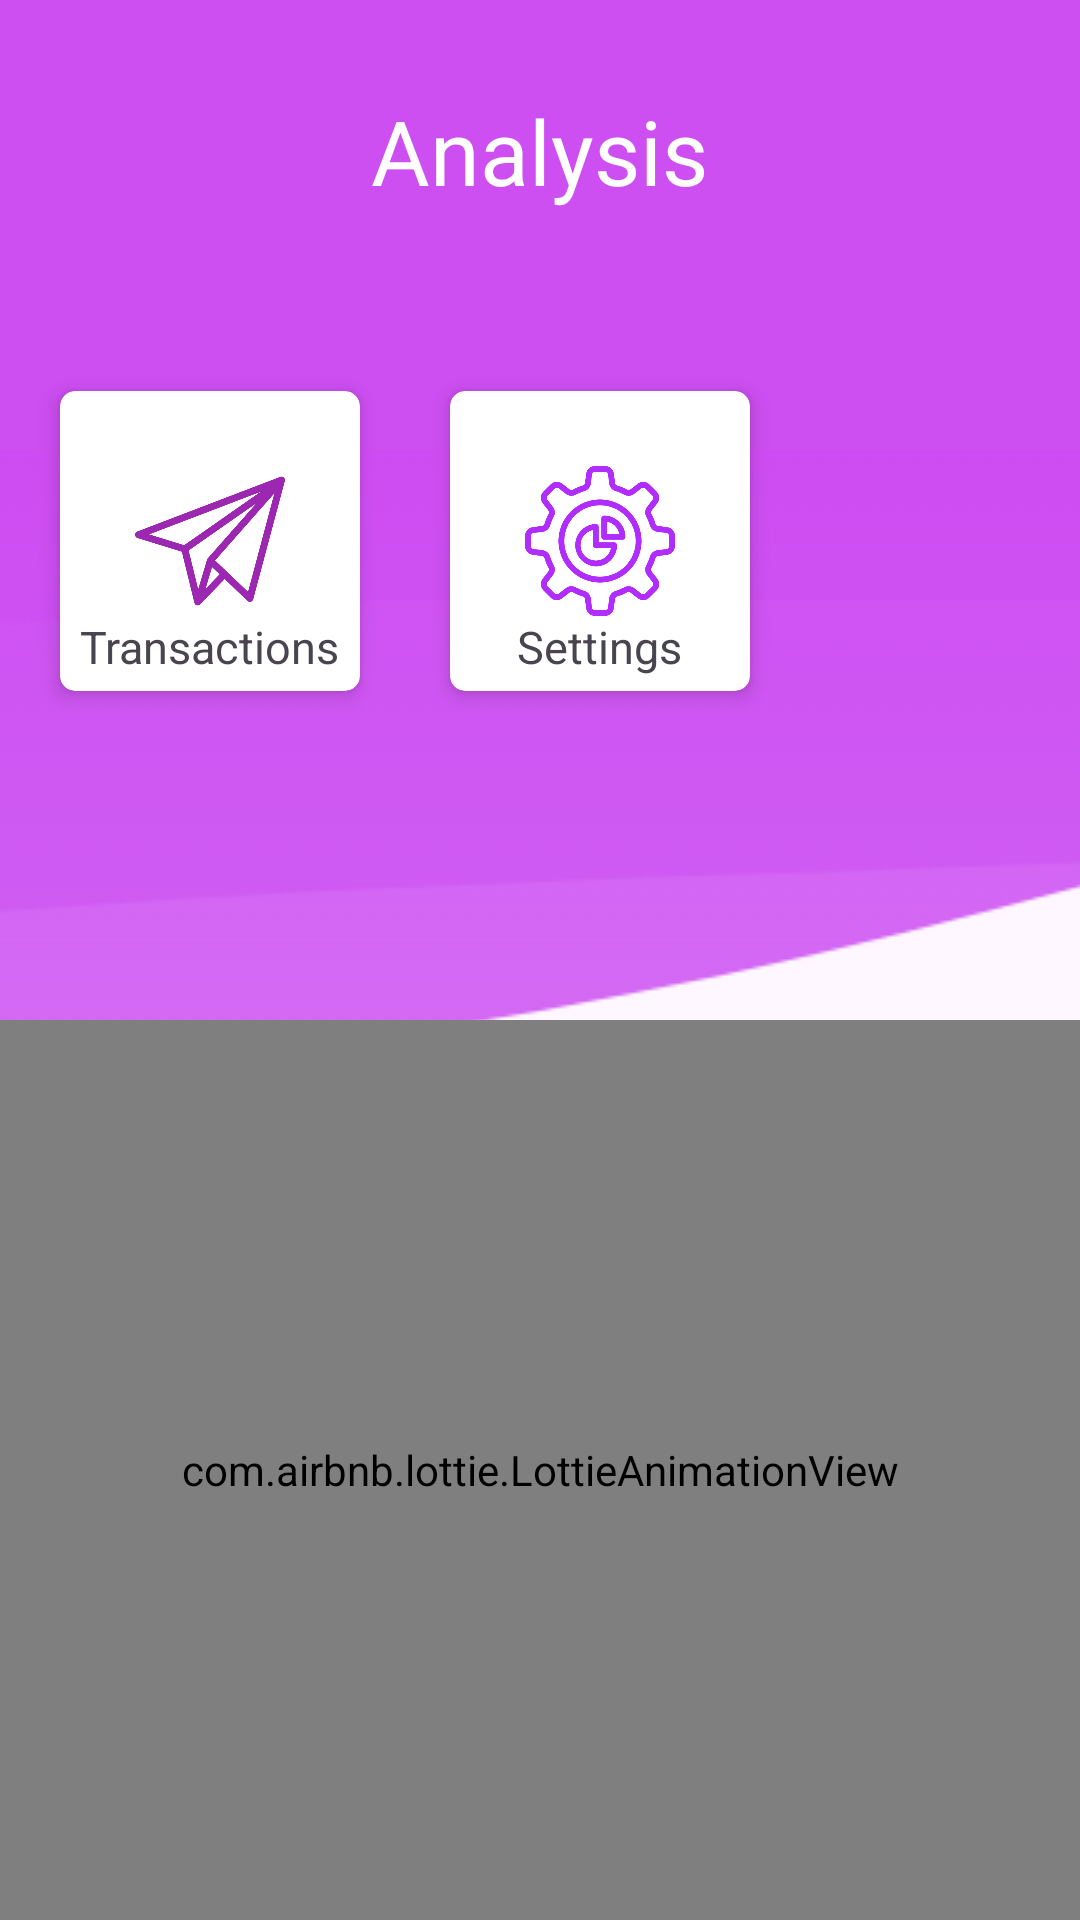

Screen size 1080×1920. Icon name, then its box in pixels as (x1, y1, x2, y2):
send: (135, 476, 285, 606)
